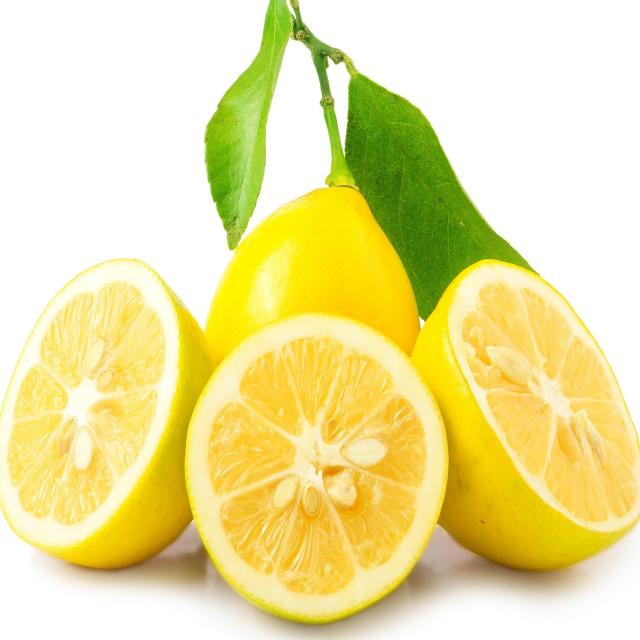lemon: (179, 304, 454, 636), (398, 253, 640, 582)
